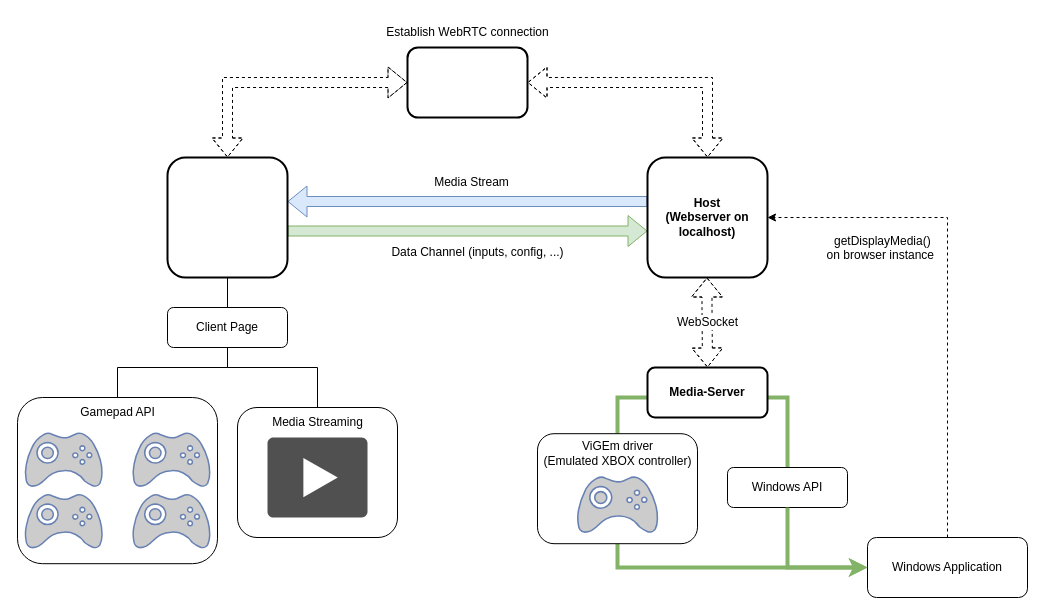
Image size: 1045x615. Some labels were removed from this diagram. The shapes that lost their labels are listed below. From the top down, each one's centre as x and y in pixels, then its label:
At point (467, 82): "Signaling Server (WebSockets)".
At point (227, 217): "Client (Webserver)".
